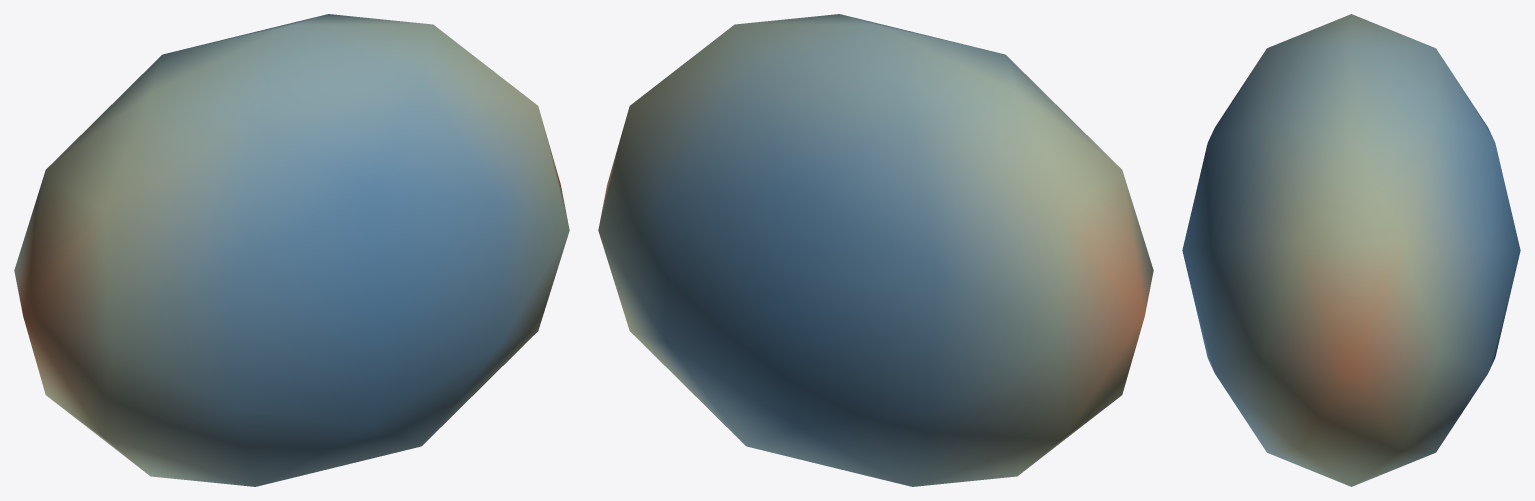
File: x07_artifact.glb
3 renders of one model, left to right at view 1: azimuth 30°, elevation 25°; view 2: azimuth 150°, elevation 25°; view 3: azimuth 270°, elevation 25°, orthographic. The views are drawn at different scales.
Parts seen in each view (by area): view 1: ToolboxSolid; view 2: ToolboxSolid; view 3: ToolboxSolid.
Part boxes in pixels (x1,y1,x2,y2): ToolboxSolid: [14, 14, 569, 486]; ToolboxSolid: [598, 14, 1153, 486]; ToolboxSolid: [1182, 14, 1520, 486].
Bounding box in the file's own units: 60 × 48 × 36.
